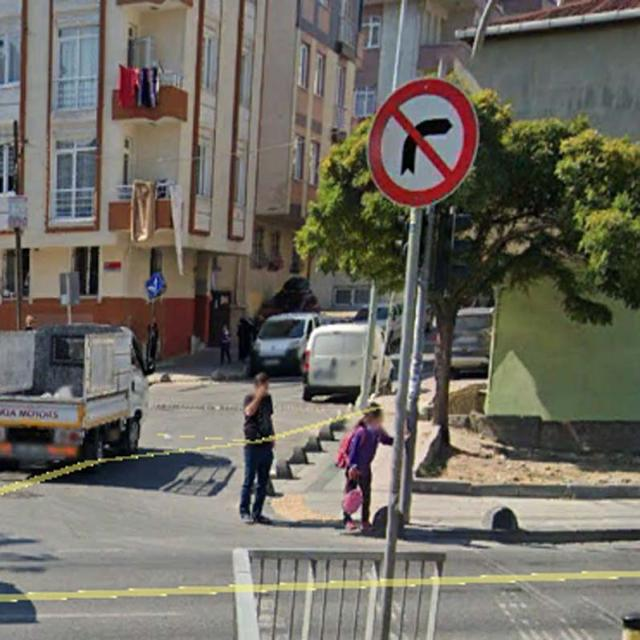sagadonulmez: (368, 79, 478, 206)
